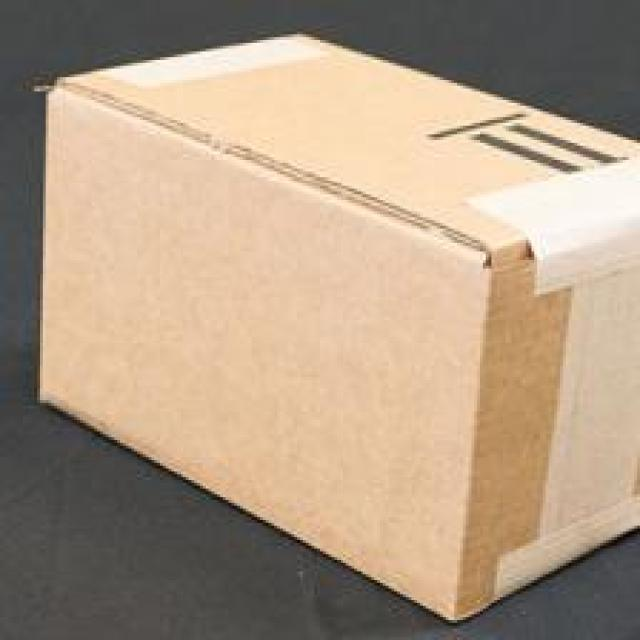box: (42, 31, 640, 621)
